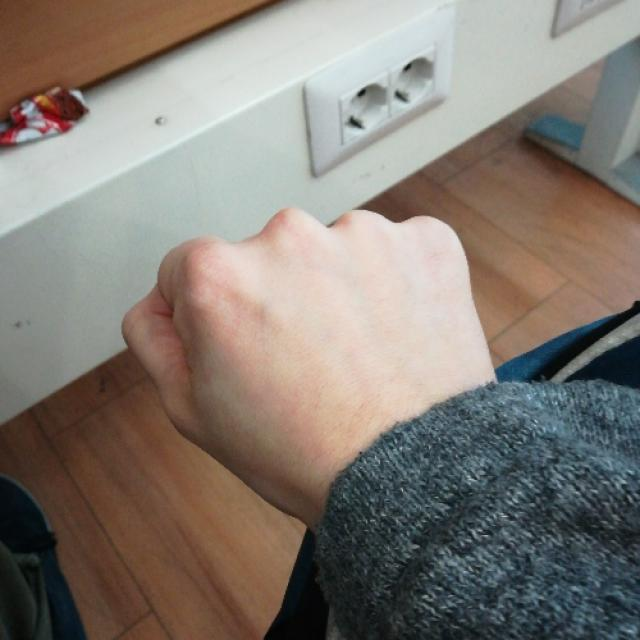rock: (121, 200, 492, 500)
